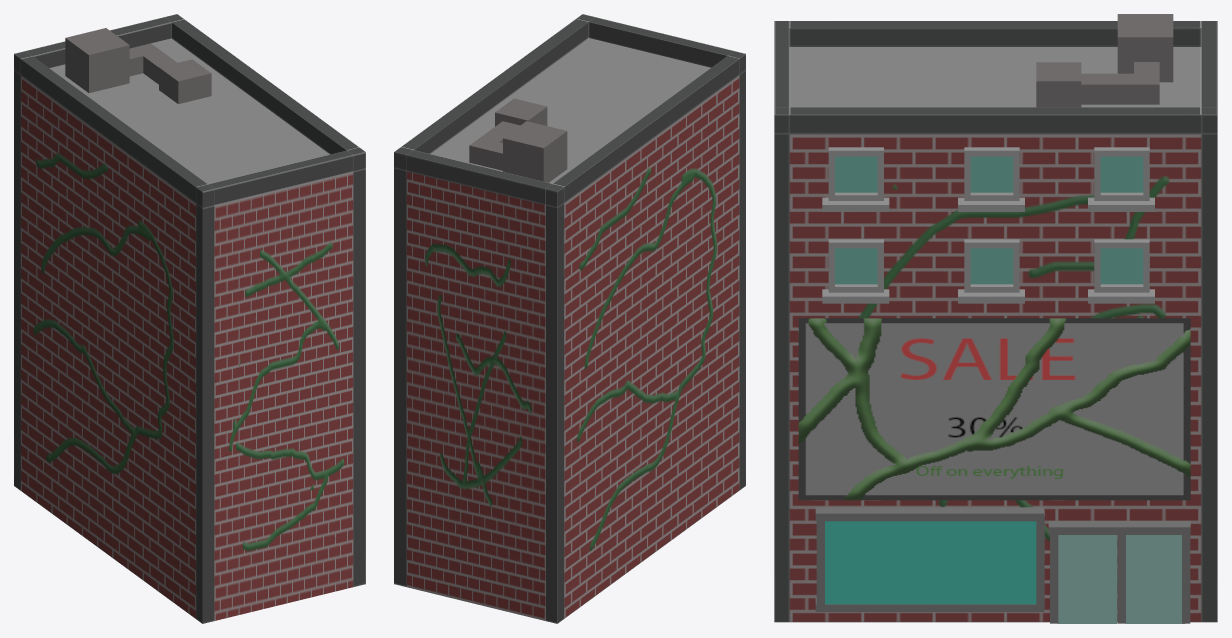
The model's file is Apartmentwith shop.fbx.
3 views of the same model, side by side, from view 1: azimuth 30°, elevation 25°; view 2: azimuth 150°, elevation 25°; view 3: azimuth 270°, elevation 25° (orthographic). The views are drawn at different scales.
Parts seen in each view (by area): view 1: polySurface57; view 2: polySurface57; view 3: polySurface57.
Part boxes in pixels (left/top/right/bottom): polySurface57: left=14, top=14, right=365, bottom=623; polySurface57: left=394, top=14, right=745, bottom=623; polySurface57: left=774, top=14, right=1217, bottom=623.
Bounding box in the file's own units: 4.31 × 10.62 × 8.
